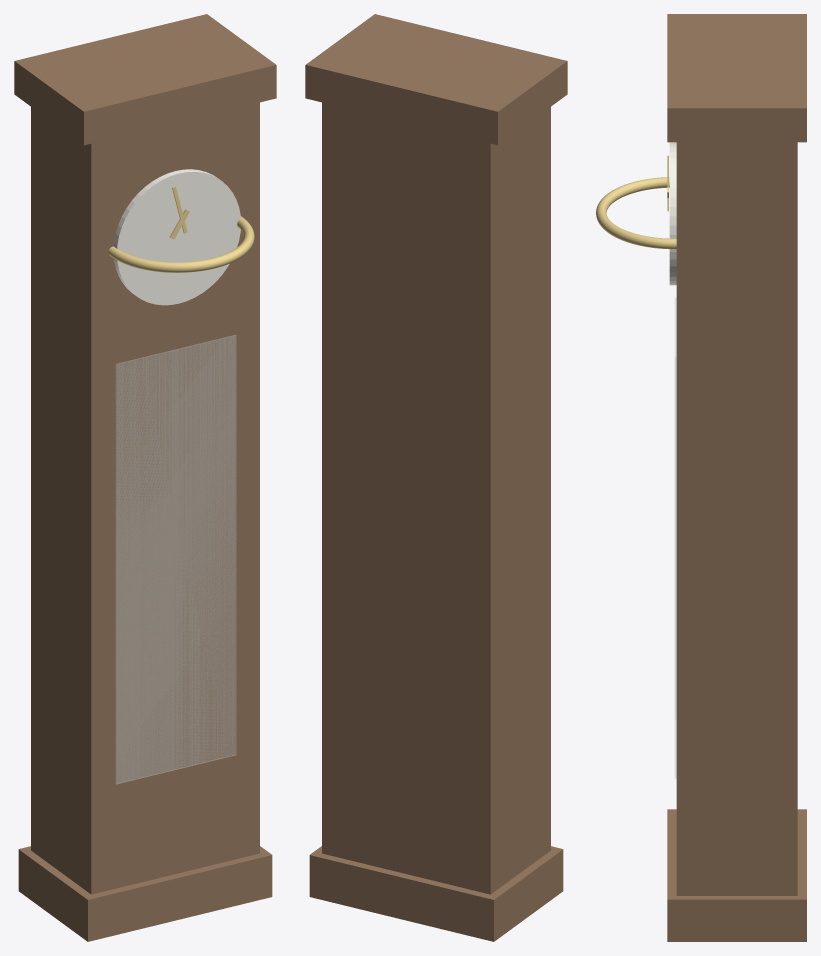
Rendered from grandfather_clock.glb.
3 views of the same model, side by side, from view 1: azimuth 30°, elevation 25°; view 2: azimuth 150°, elevation 25°; view 3: azimuth 270°, elevation 25° (orthographic).
Visible parts, largest first — view 1: Clock_Body, Clock_GlassPane, Clock_Crown, Clock_Base, Clock_FaceDisc, Clock_FaceRing; view 2: Clock_Body, Clock_Crown, Clock_Base; view 3: Clock_Body, Clock_Crown, Clock_Base, Clock_FaceRing, Clock_FaceDisc, Clock_GlassPane.
Part boxes in pixels (x1,y1,x2,y2): Clock_Body: (31, 102, 259, 894); Clock_GlassPane: (115, 335, 236, 784); Clock_Crown: (14, 14, 276, 145); Clock_Base: (18, 846, 272, 941); Clock_FaceDisc: (113, 169, 240, 305); Clock_FaceRing: (108, 216, 254, 272); Clock_Body: (322, 102, 550, 894); Clock_Crown: (305, 14, 567, 145); Clock_Base: (309, 846, 563, 941); Clock_Body: (676, 142, 797, 895); Clock_Crown: (667, 14, 806, 142); Clock_Base: (667, 809, 806, 941); Clock_FaceRing: (596, 177, 676, 249); Clock_FaceDisc: (669, 142, 676, 285); Clock_GlassPane: (675, 298, 676, 778).
Bounding box in the file's own units: 0.48 × 1.98 × 0.453.
